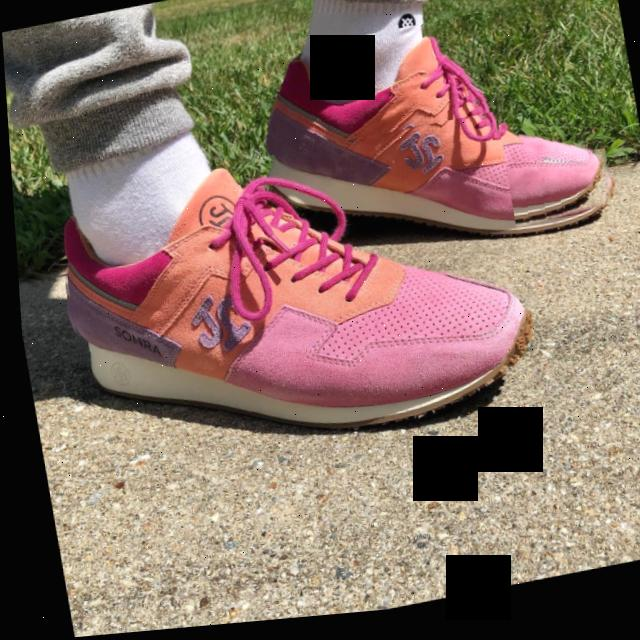shoe: (45, 118, 541, 486), (240, 1, 623, 294)
